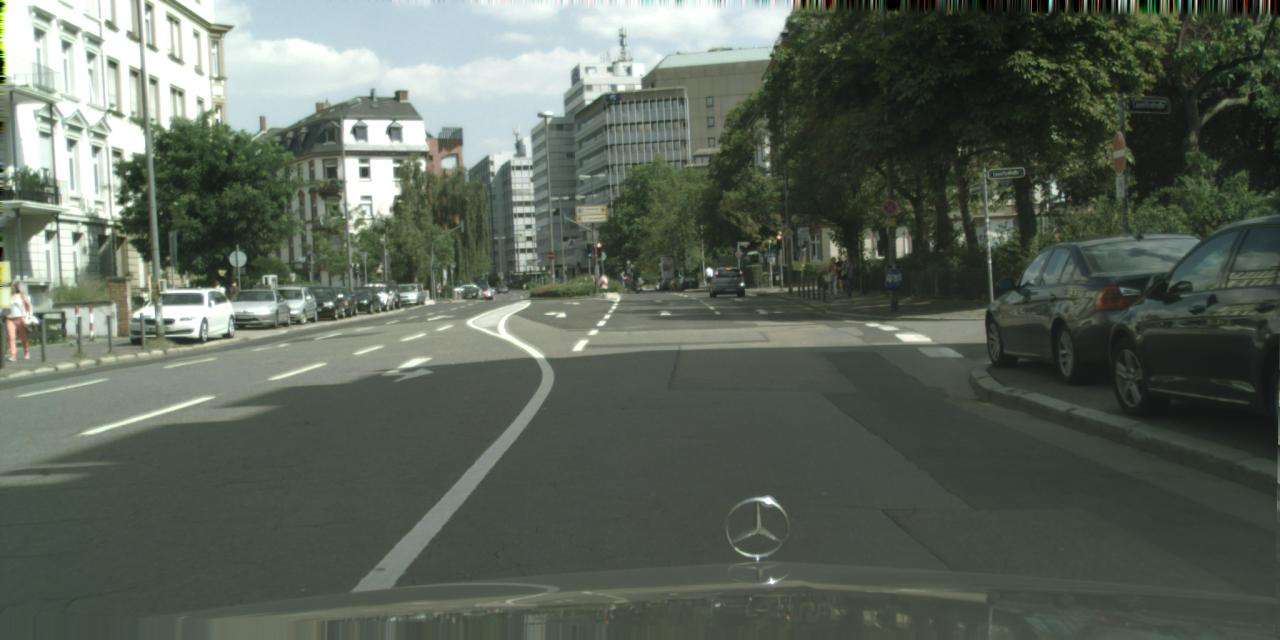ped: (1, 279, 33, 359), (210, 280, 226, 320), (840, 254, 856, 294), (825, 257, 841, 297), (224, 280, 239, 320), (832, 256, 848, 293), (703, 266, 713, 290), (618, 271, 626, 291), (625, 274, 631, 292), (670, 278, 674, 292), (523, 282, 525, 290)
